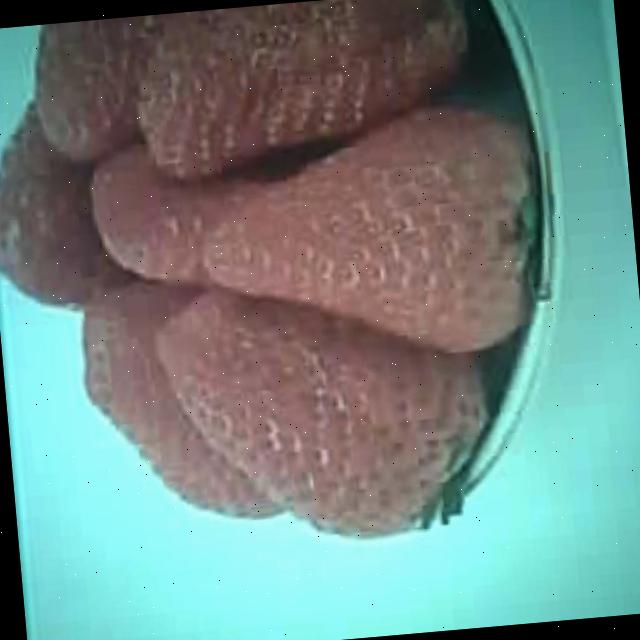strawberry: (192, 102, 552, 368), (156, 270, 496, 544), (130, 0, 471, 181)
